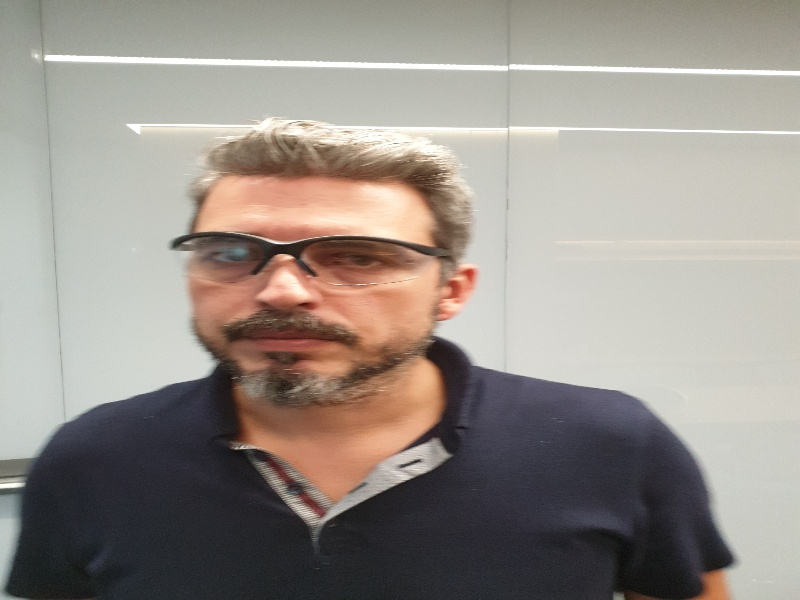Gozluk: (170, 233, 450, 289)
